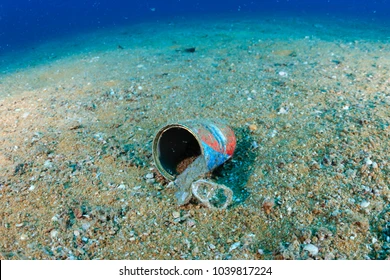Metal: (151, 113, 241, 212)
